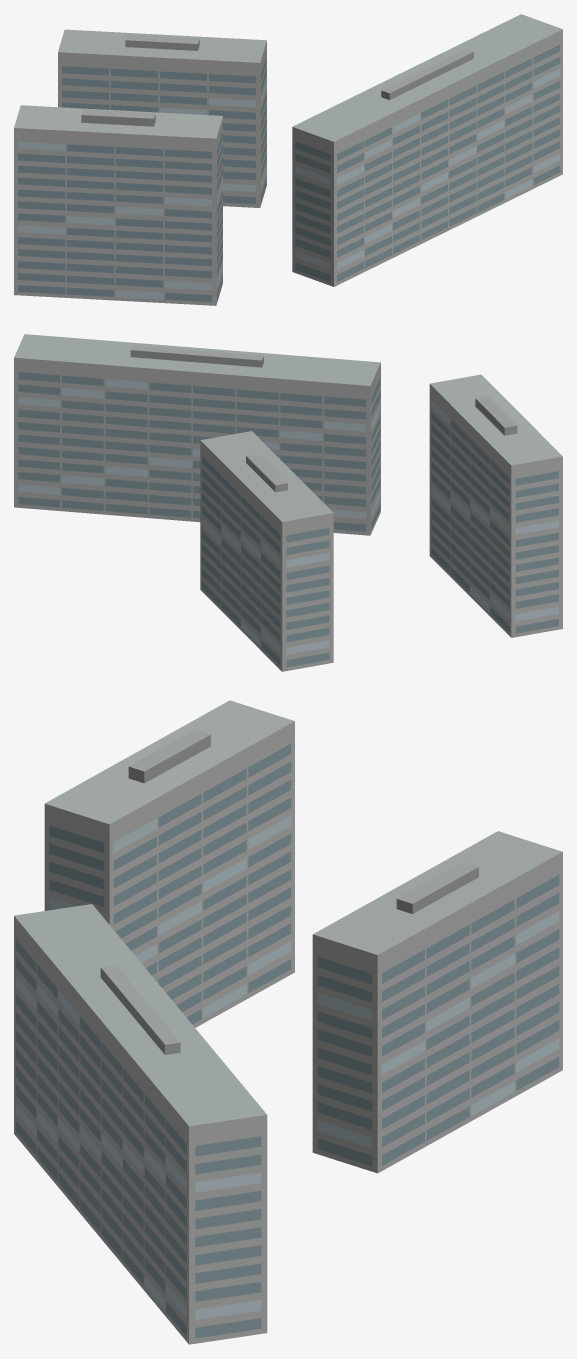
Rendered from apt-a13276414.glb.
The picture shows the model from 3 angles, top to bottom: view 1: azimuth 30°, elevation 25°; view 2: azimuth 150°, elevation 25°; view 3: azimuth 270°, elevation 25°; orthographic projection. The views are drawn at different scales.
Parts seen in each view (by area): view 1: apt-a13276414; view 2: apt-a13276414; view 3: apt-a13276414.
Part boxes in pixels (left/top/right/bottom): apt-a13276414: left=14, top=14, right=562, bottom=305; apt-a13276414: left=14, top=334, right=562, bottom=671; apt-a13276414: left=14, top=700, right=562, bottom=1344.
Size of the model in its own units: 122 by 38 by 71.82.
